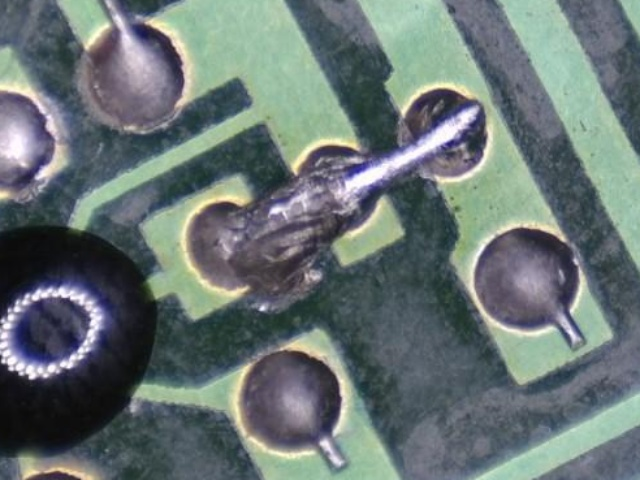pcb_defect: (225, 103, 480, 312)
